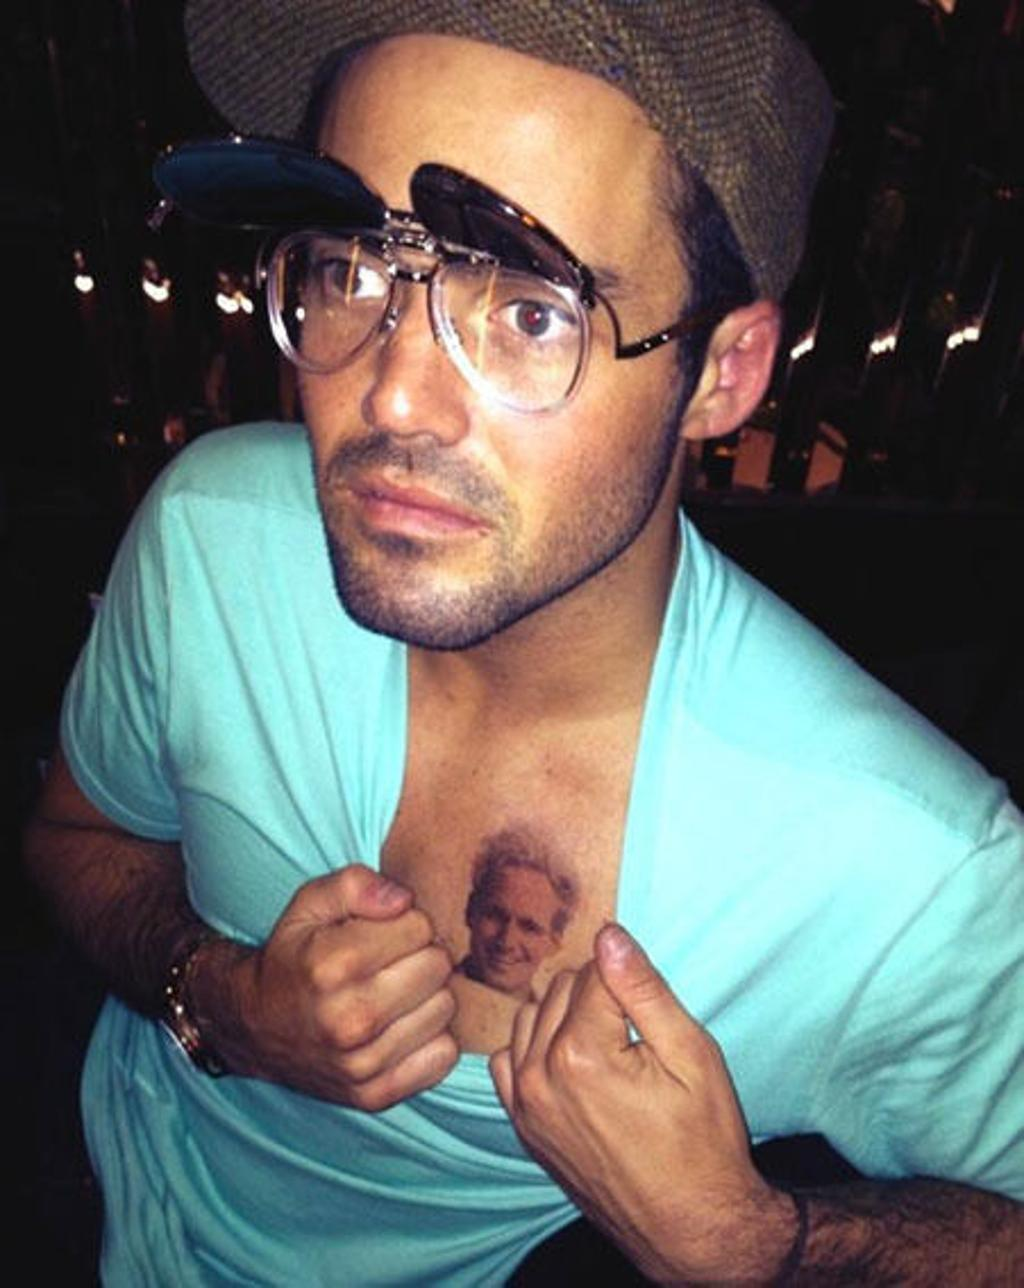face: (305, 39, 690, 643)
